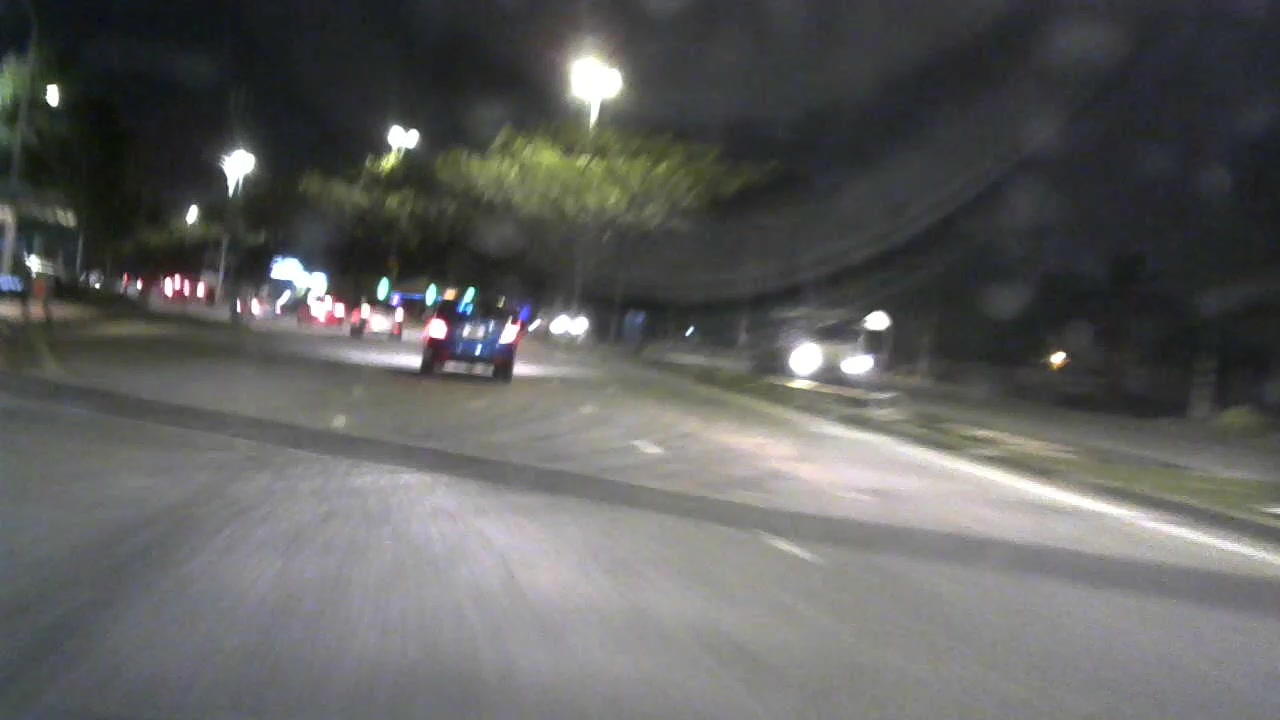Car: (418, 289, 523, 387), (774, 323, 879, 384), (342, 289, 415, 338), (294, 291, 340, 333)
